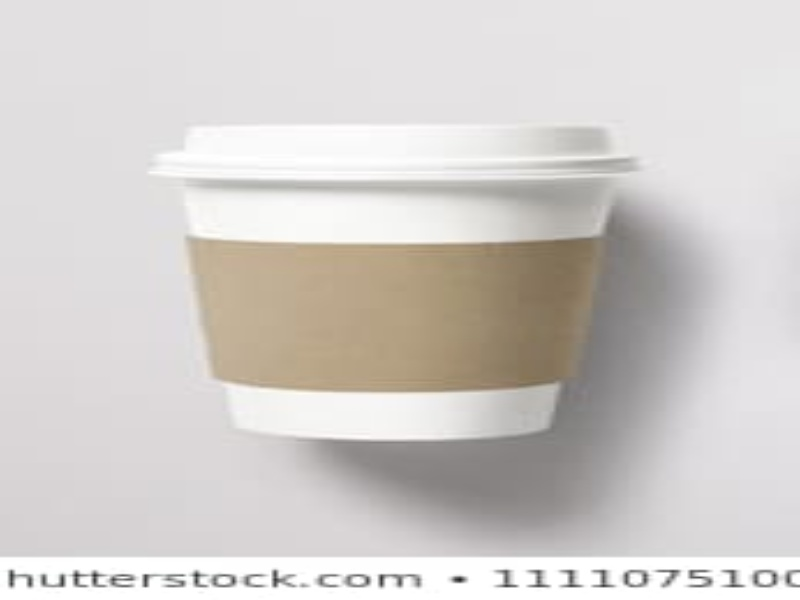coffee-lid: (141, 122, 644, 187)
plastic-cup: (144, 119, 645, 444)
